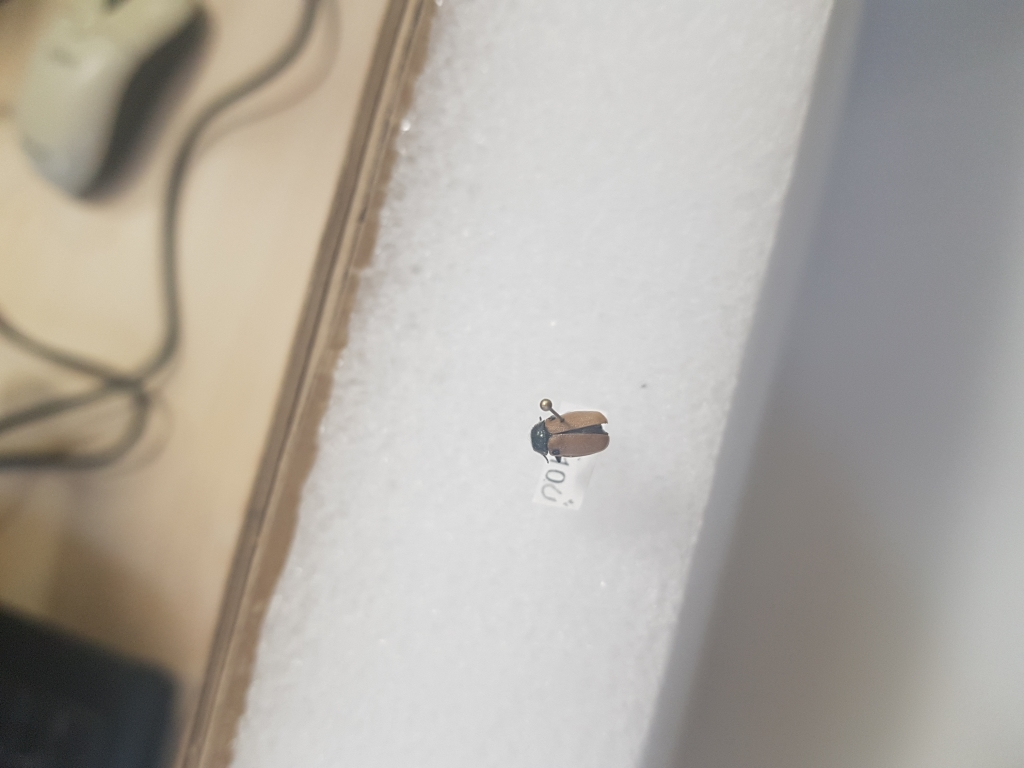Labidostomis_longimana: (521, 409, 614, 464)
